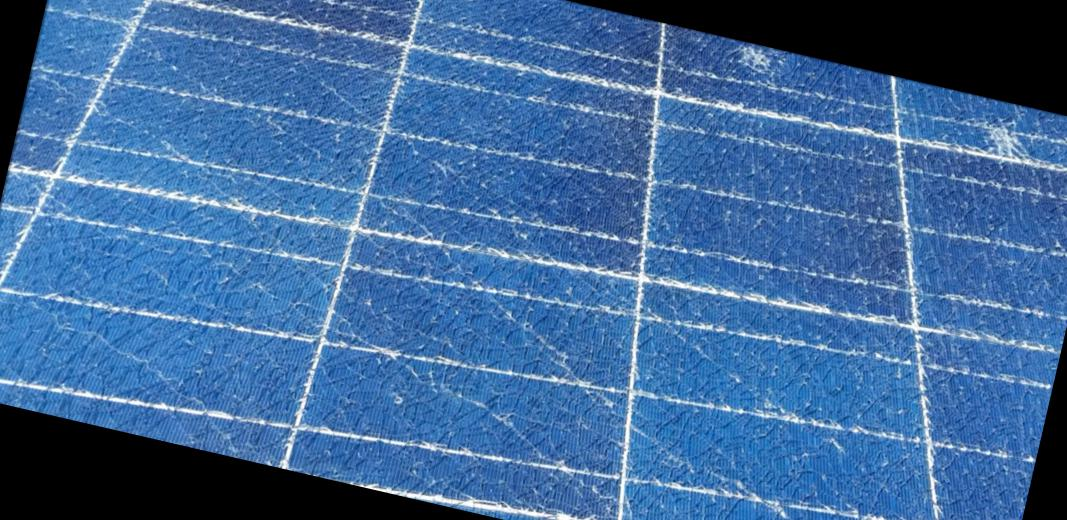Crack: (957, 106, 1050, 184), (720, 42, 794, 100)
